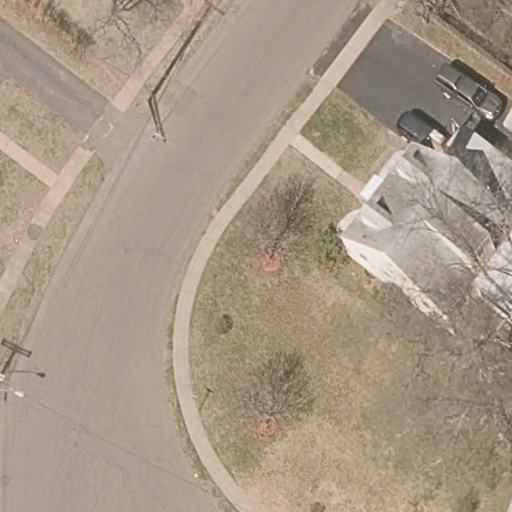DT: (147, 91, 176, 149), (1, 367, 25, 404)
